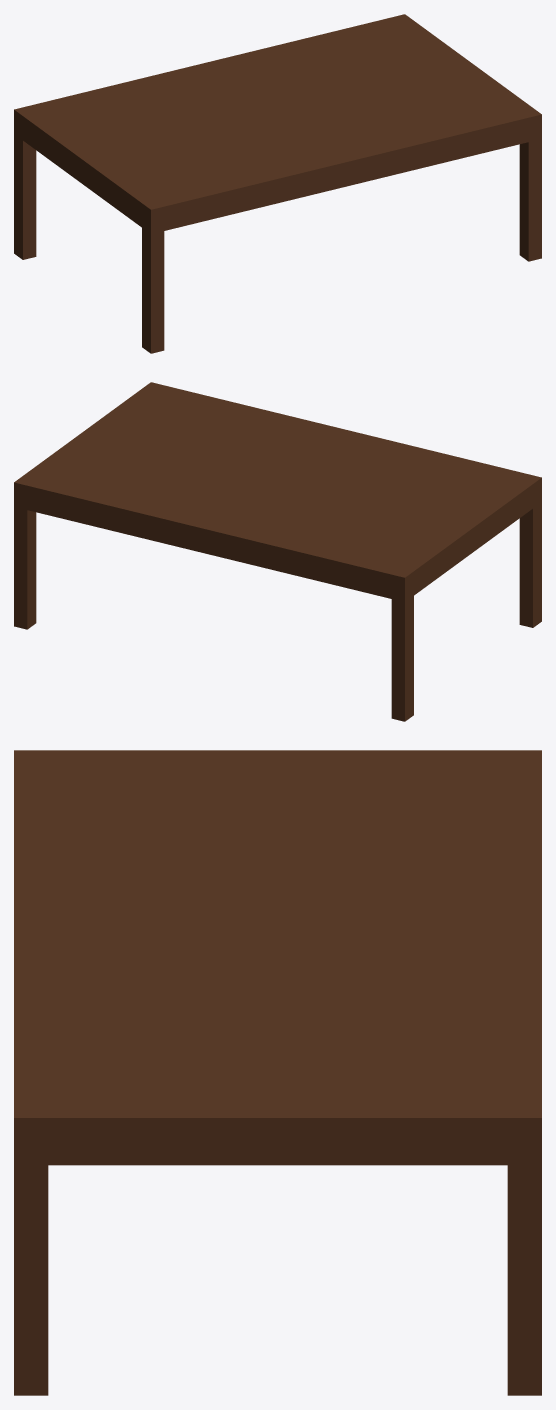
Rendered from Calsma_Odas_Masa.fbx.
3 renders of one model, top to bottom at view 1: azimuth 30°, elevation 25°; view 2: azimuth 150°, elevation 25°; view 3: azimuth 270°, elevation 25°, orthographic. The views are drawn at different scales.
Visible parts, largest first — view 1: Çalışma_Odası_Masa; view 2: Çalışma_Odası_Masa; view 3: Çalışma_Odası_Masa.
Boxes of the visible parts, left/top/right/bottom form: Çalışma_Odası_Masa: left=14, top=14, right=541, bottom=353; Çalışma_Odası_Masa: left=14, top=382, right=541, bottom=721; Çalışma_Odası_Masa: left=14, top=750, right=541, bottom=1395.
Bounding box in the file's own units: 329 × 116 × 200.
